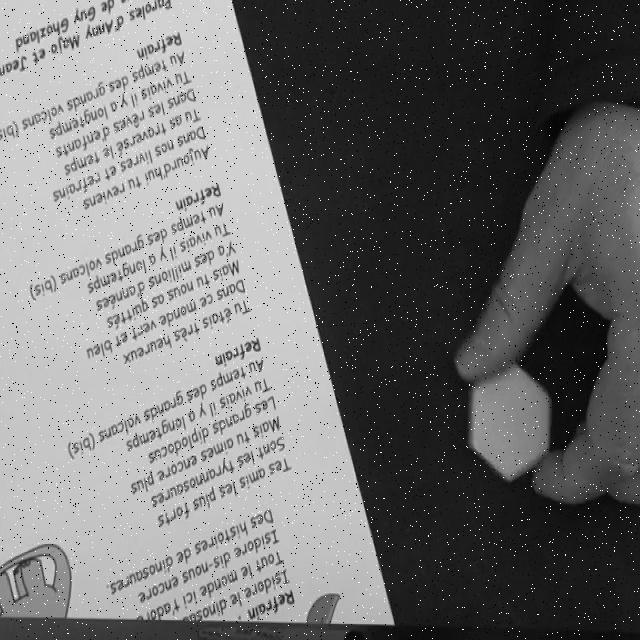hexagon: (468, 361, 550, 484)
